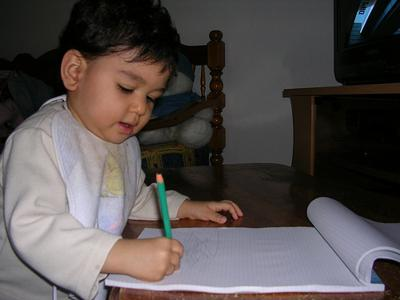person: (2, 3, 245, 299)
